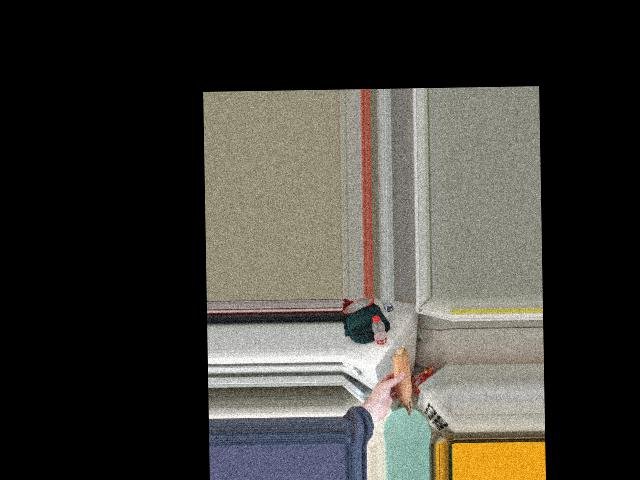sweet_potato: (388, 344, 417, 416)
